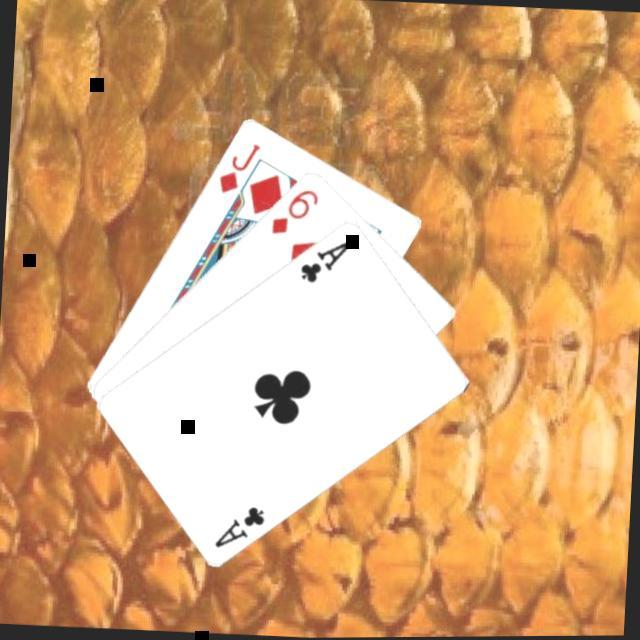6D: (269, 185, 324, 241)
AC: (297, 235, 356, 288), (212, 501, 271, 554)
JD: (215, 139, 264, 197)
